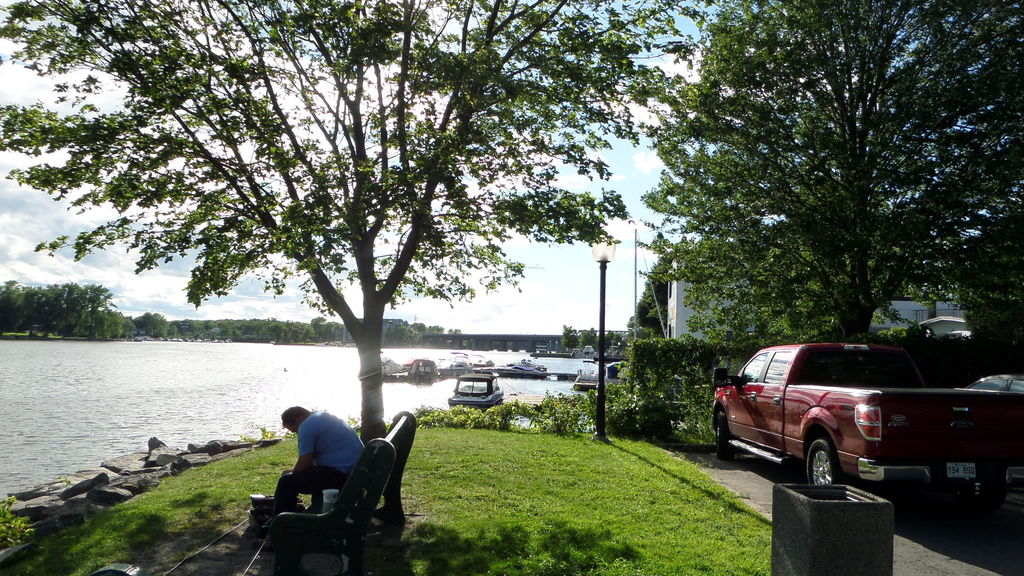Car: (723, 336, 1008, 502)
